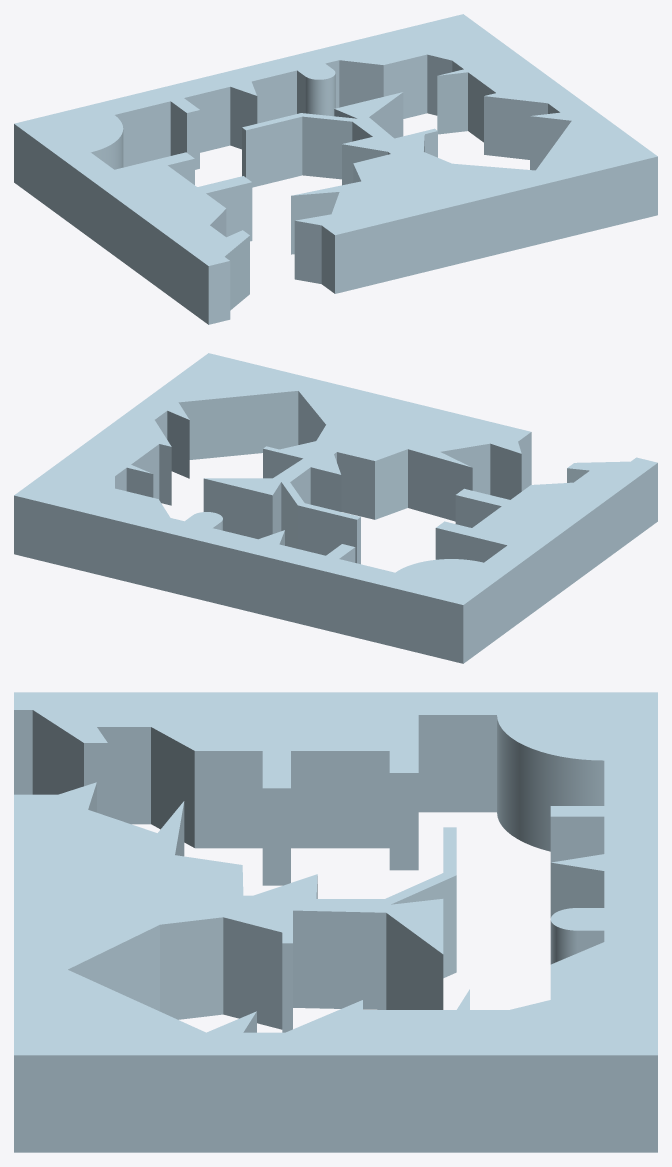
File: testlevel0.gltf
3 renders of one model, top to bottom at view 1: azimuth 30°, elevation 25°; view 2: azimuth 150°, elevation 25°; view 3: azimuth 270°, elevation 25°, orthographic. The views are drawn at different scales.
Parts seen in each view (by area): view 1: Part 1; view 2: Part 1; view 3: Part 1.
Boxes of the visible parts, <box> form: Part 1: <box>14,14,657,324</box>; Part 1: <box>14,353,657,663</box>; Part 1: <box>14,692,657,1152</box>.
Size of the model in its own units: 0.4064 by 0.0508 by 0.3048.
